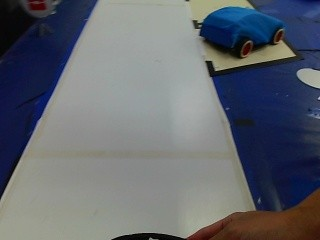car: (190, 5, 284, 63)
